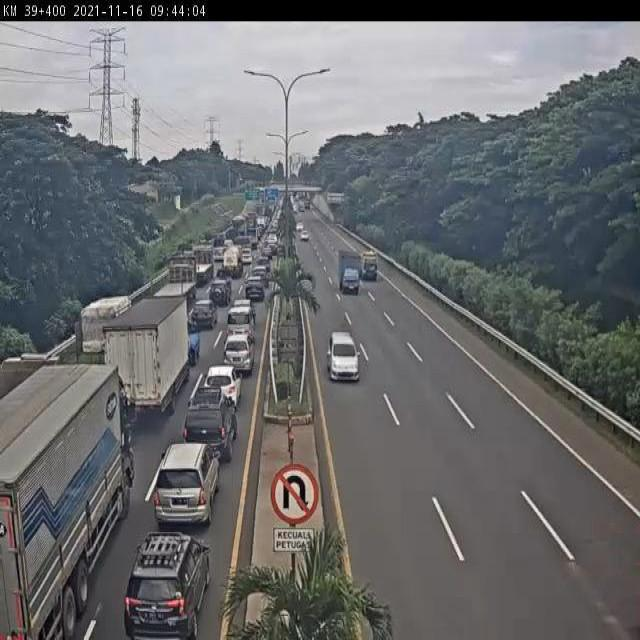car: (123, 529, 214, 640), (151, 436, 216, 519), (182, 383, 231, 452), (325, 325, 360, 391), (199, 360, 240, 404), (225, 327, 252, 377), (191, 298, 219, 330), (228, 302, 252, 338), (241, 269, 268, 299), (209, 277, 233, 308)
small truck: (358, 250, 387, 286)
truck-l-: (0, 356, 130, 640), (152, 256, 196, 315), (186, 238, 212, 286)
truck-m-: (105, 295, 197, 416), (72, 286, 128, 358), (336, 249, 364, 299)
